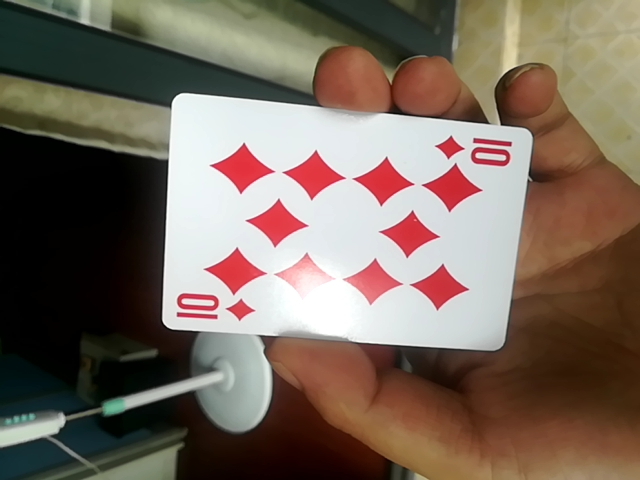fk 10: (157, 90, 532, 354)
